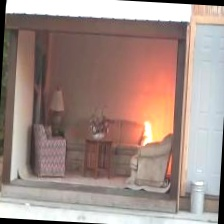fire: (136, 118, 156, 150)
